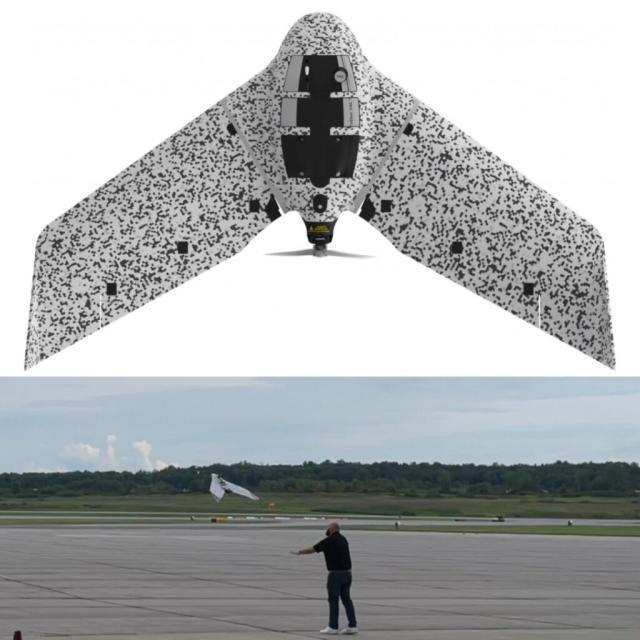iha: (22, 6, 617, 370)
